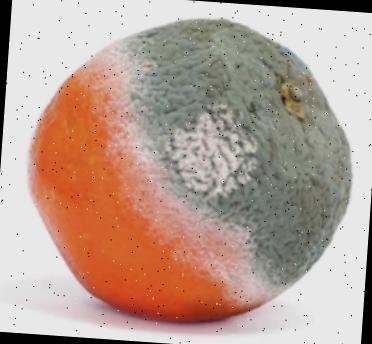Orange Rotten: (18, 0, 369, 343)
